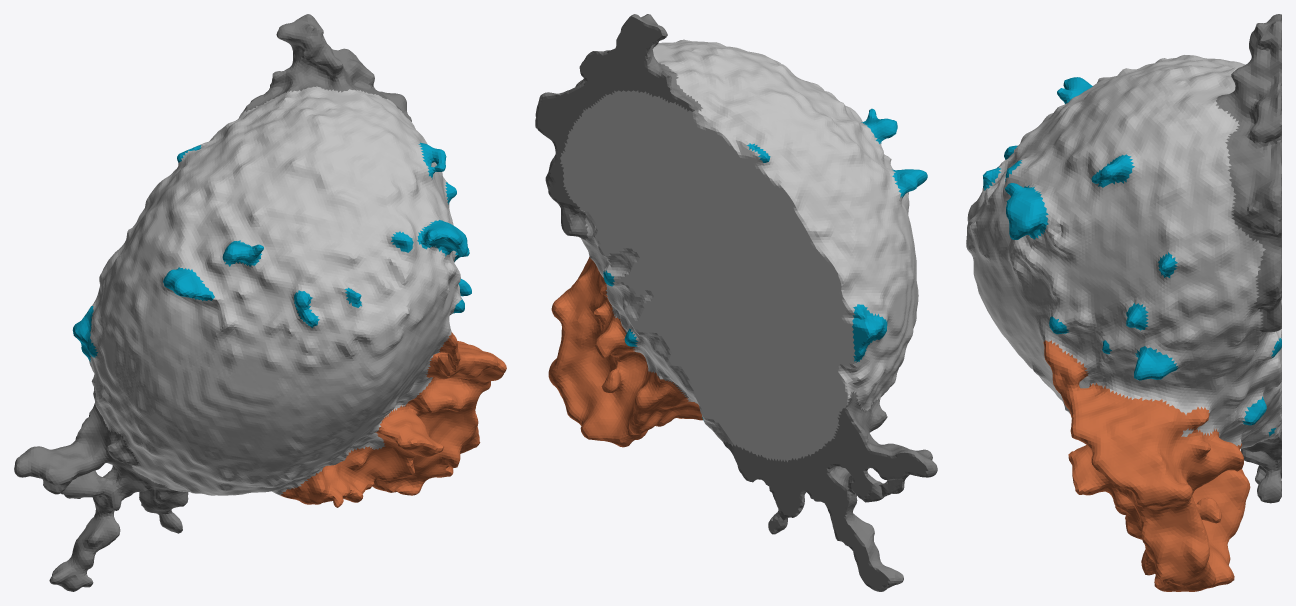
3 renders of one model, left to right at view 1: azimuth 30°, elevation 25°; view 2: azimuth 150°, elevation 25°; view 3: azimuth 270°, elevation 25°, orthographic. The views are drawn at different scales.
Bounding box in the file's own units: 126 × 148 × 70.87.
